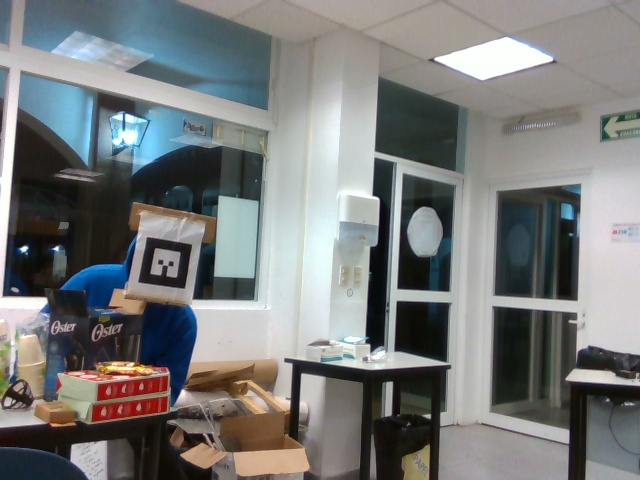ar1: (138, 236, 194, 291)
